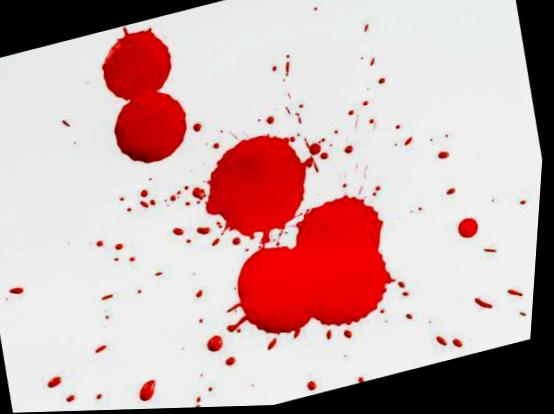Fire: (93, 1, 536, 411)
